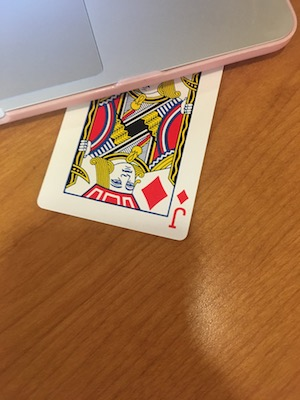JackOfDiamonds: (40, 63, 226, 240)
